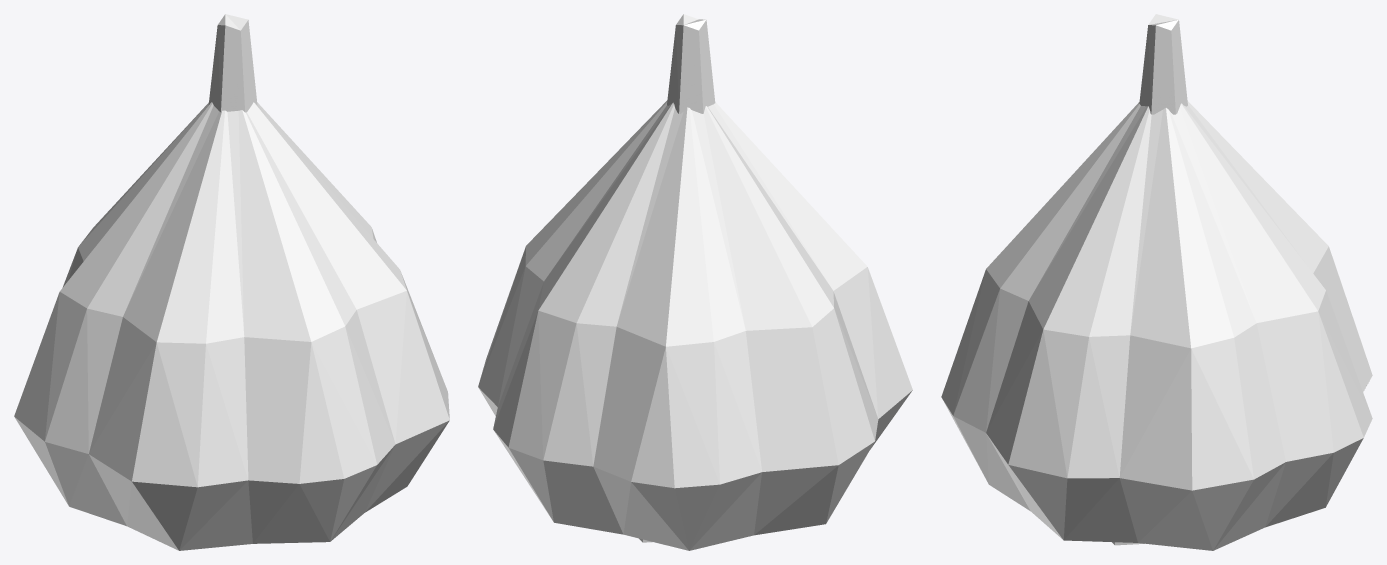
The model's file is Crop_Garlic_01.glb.
3 renders of one model, left to right at view 1: azimuth 30°, elevation 25°; view 2: azimuth 150°, elevation 25°; view 3: azimuth 270°, elevation 25°, orthographic.
Parts seen in each view (by area): view 1: Crop_Garlic_01; view 2: Crop_Garlic_01; view 3: Crop_Garlic_01.
Boxes of the visible parts, x1,y1,x2,y2 form: Crop_Garlic_01: (14, 14, 449, 550); Crop_Garlic_01: (478, 14, 912, 550); Crop_Garlic_01: (941, 14, 1372, 550).
Size of the model in its own units: 0.0884 by 0.1095 by 0.0873.
1 material, 1 textured.
